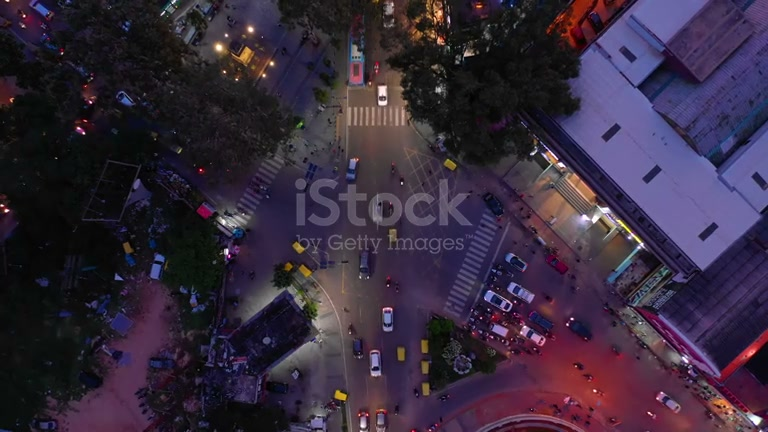car: (566, 316, 593, 341), (656, 391, 682, 414)
